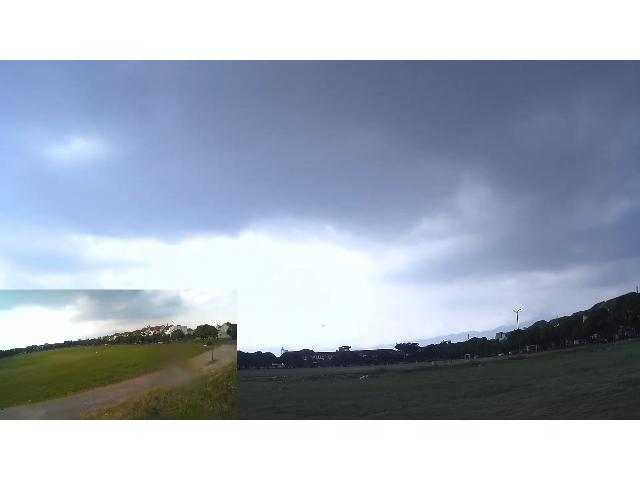Anti-Drone: (310, 318, 344, 334)
